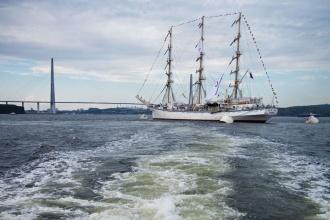fanchuan: (135, 9, 278, 123)
